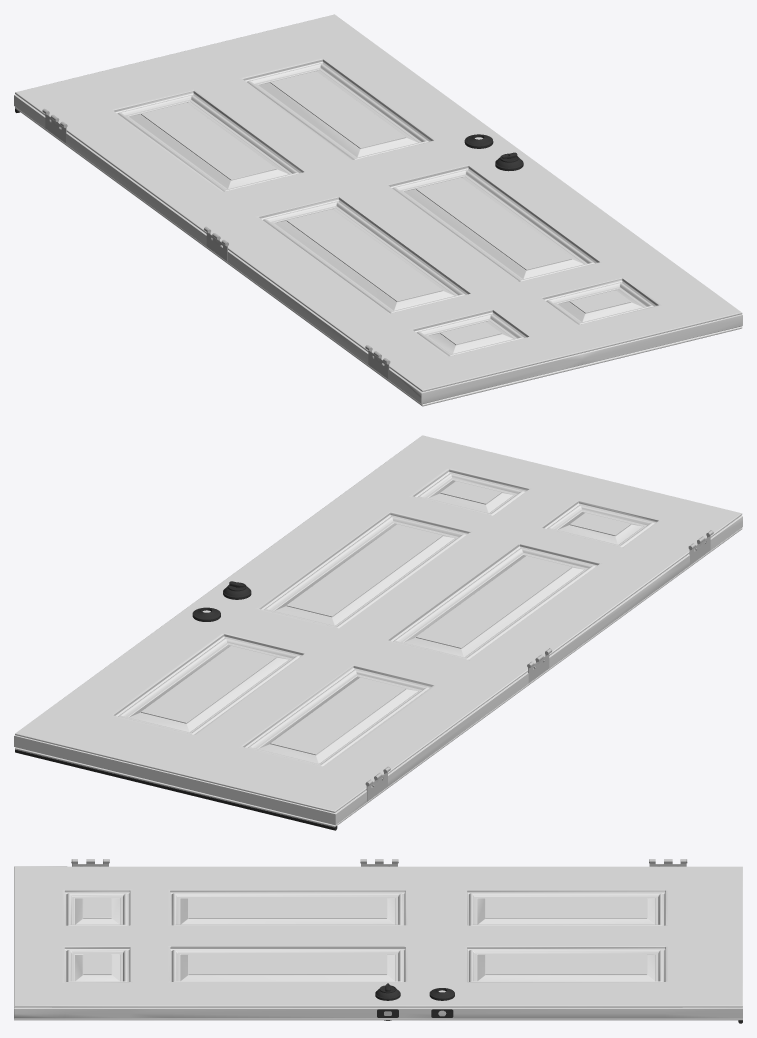
Rendered from exterior_door.obj.
3 views of the same model, one above another, from view 1: azimuth 30°, elevation 25°; view 2: azimuth 150°, elevation 25°; view 3: azimuth 270°, elevation 25° (orthographic). The views are drawn at different scales.
Parts seen in each view (by area): view 1: exterior_door_Cube; view 2: exterior_door_Cube; view 3: exterior_door_Cube.
Boxes of the visible parts, x1,y1,x2,y2 form: exterior_door_Cube: (14, 14, 742, 406); exterior_door_Cube: (14, 435, 742, 830); exterior_door_Cube: (14, 859, 742, 1023).
Bounding box in the file's own units: 0.9226 × 0.0973 × 2.01.
3 materials, 3 textured.
